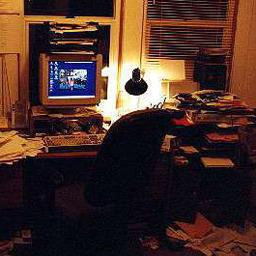Ventana: (23, 4, 112, 102), (146, 4, 232, 66)
